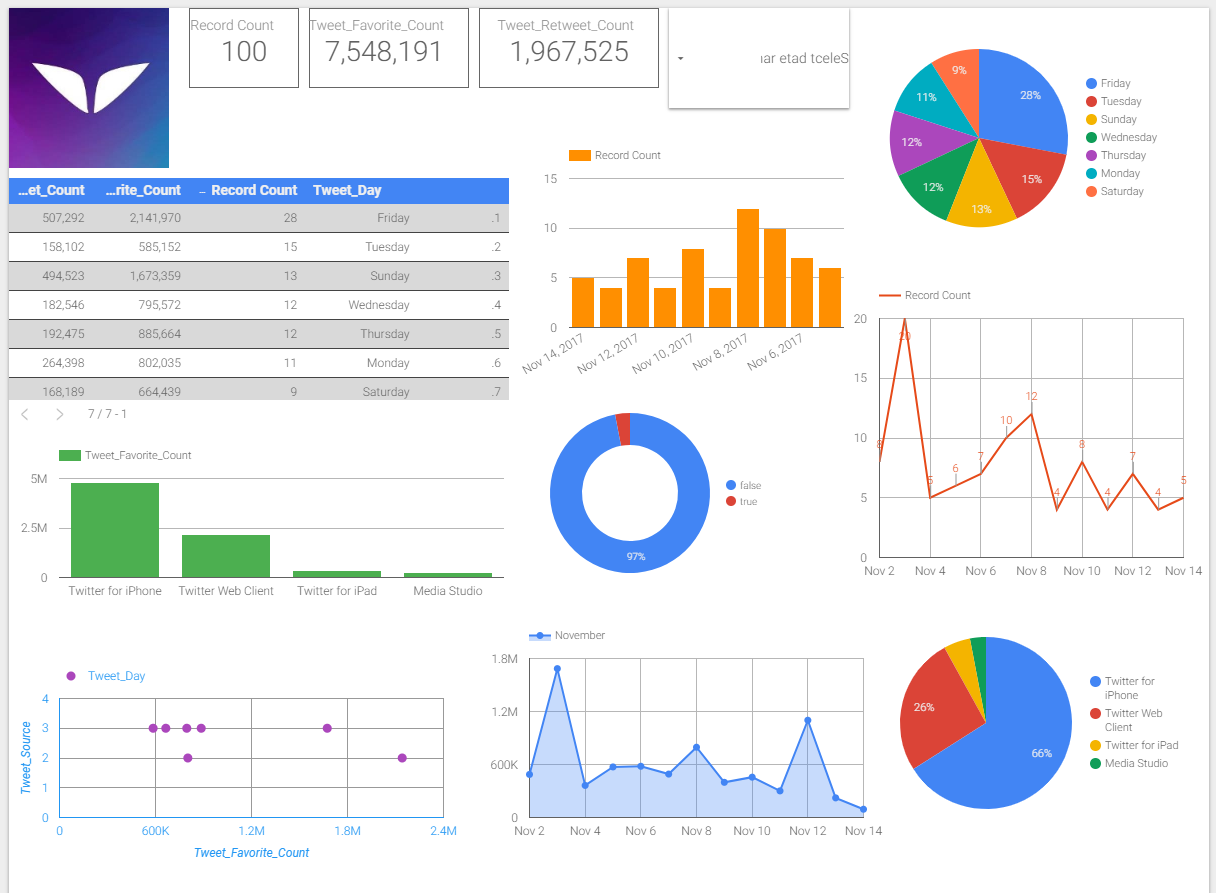

The page's visual inventory and layout, read from the dashboard file:
{"tool":"powerbi","page":{"name":"User Tweets Analytics","canvas":[1280,720],"ordinal":3},"visuals":[{"type":"pieChart","fields":{"Category":["UserTweets.Tweet Source"],"Y":["CountNonNull(UserTweets.Tweet Id)"]},"box":[0,195.1,262.5,198.6],"z":2},{"type":"card","fields":{"Values":["Sum(UserTweets.Tweet Retweet Count)"]},"box":[202.1,27.1,162.7,87.5],"z":3},{"type":"card","fields":{"Values":["Sum(UserTweets.Tweet Favorite Count)"]},"box":[374.4,27.1,161,86.6],"z":4},{"type":"tableEx","fields":{"Values":["UserTweets.Tweet Month","UserTweets.Is Reply","UserTweets.Is Retweet","Sum(UserTweets.Tweet Retweet Count)","Sum(UserTweets.Tweet Favorite Count)"]},"box":[0,414.7,424.3,120.7],"z":5},{"type":"image","box":[0,0,179.3,176.7],"z":6},{"type":"donutChart","fields":{"Y":["CountNonNull(UserTweets.Tweet Id)"],"Category":["UserTweets.Is Retweet"]},"box":[262.5,173.2,250.2,220.5],"z":6},{"type":"funnel","fields":{"Y":["CountNonNull(UserTweets.Tweet Id)"],"Category":["UserTweets.Is Retweet"]},"box":[515.3,206.5,305.3,207.3],"z":7},{"type":"card","fields":{"Values":["CountNonNull(UserTweets.Tweet Id)"]},"box":[544.2,27.1,144.3,85.7],"z":8},{"type":"slicer","fields":{"Values":["UserTweets.Is Reply"]},"box":[841.6,42,117.2,69.1],"z":9},{"type":"slicer","fields":{"Values":["UserTweets.Is Retweet"]},"box":[694.6,39.4,138.2,71.7],"z":10},{"type":"slicer","fields":{"Values":["UserTweets.Tweet Time"]},"box":[965.8,41.1,250.2,77.9],"z":11},{"type":"lineClusteredColumnComboChart","fields":{"Category":["UserTweets.Tweet Day"],"Y":["Sum(UserTweets.Tweet Favorite Count)"],"Y2":["CountNonNull(UserTweets.Tweet Id)"]},"box":[430.4,464.5,523.2,254.6],"z":12},{"type":"donutChart","fields":{"Category":["UserTweets.Is Reply"],"Y":["CountNonNull(UserTweets.Tweet Id)"]},"box":[972.8,487.3,307.1,232.7],"z":12},{"type":"tableEx","fields":{"Values":["UserTweets.Tweet Month","UserTweets.Is Reply","UserTweets.Is Retweet","UserTweets.Tweet Source","UserTweets.Tweet Day","Sum(UserTweets.Tweet Favorite Count)"]},"box":[823.2,153.1,455.9,285.2],"z":14},{"type":"pieChart","fields":{"Y":["CountNonNull(UserTweets.Tweet Id)"],"Category":["UserTweets.Tweet Day"]},"box":[0,538,404.2,182],"z":15}]}

Visuals, with their boxes on the page's 1280x720 design canvas (x1, y1, x2, y2). These are canvas units, not pixel positions in the 1216x893 screenshot, which may show the page scaled, cropped or inside an application window:
pieChart - UserTweets.Tweet Source x CountNonNull(UserTweets.Tweet Id): {"left": 0, "top": 195, "right": 262, "bottom": 394}
card - Sum(UserTweets.Tweet Retweet Count): {"left": 202, "top": 27, "right": 365, "bottom": 115}
card - Sum(UserTweets.Tweet Favorite Count): {"left": 374, "top": 27, "right": 535, "bottom": 114}
tableEx - UserTweets.Tweet Month x UserTweets.Is Reply: {"left": 0, "top": 415, "right": 424, "bottom": 535}
image: {"left": 0, "top": 0, "right": 179, "bottom": 177}
donutChart - CountNonNull(UserTweets.Tweet Id) x UserTweets.Is Retweet: {"left": 262, "top": 173, "right": 513, "bottom": 394}
funnel - CountNonNull(UserTweets.Tweet Id) x UserTweets.Is Retweet: {"left": 515, "top": 206, "right": 821, "bottom": 414}
card - CountNonNull(UserTweets.Tweet Id): {"left": 544, "top": 27, "right": 688, "bottom": 113}
slicer - UserTweets.Is Reply: {"left": 842, "top": 42, "right": 959, "bottom": 111}
slicer - UserTweets.Is Retweet: {"left": 695, "top": 39, "right": 833, "bottom": 111}
slicer - UserTweets.Tweet Time: {"left": 966, "top": 41, "right": 1216, "bottom": 119}
lineClusteredColumnComboChart - UserTweets.Tweet Day x Sum(UserTweets.Tweet Favorite Count): {"left": 430, "top": 464, "right": 954, "bottom": 719}
donutChart - UserTweets.Is Reply x CountNonNull(UserTweets.Tweet Id): {"left": 973, "top": 487, "right": 1280, "bottom": 720}
tableEx - UserTweets.Tweet Month x UserTweets.Is Reply: {"left": 823, "top": 153, "right": 1279, "bottom": 438}
pieChart - CountNonNull(UserTweets.Tweet Id) x UserTweets.Tweet Day: {"left": 0, "top": 538, "right": 404, "bottom": 720}
